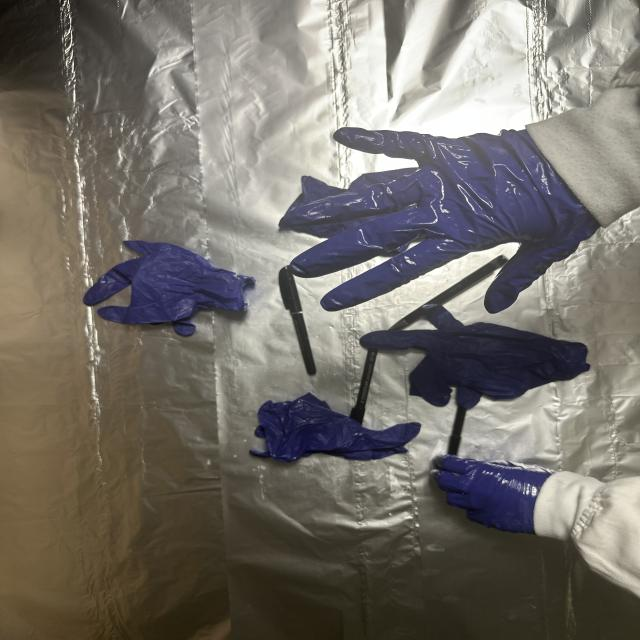gloves_contaminated: (292, 128, 598, 312), (435, 455, 558, 533)
